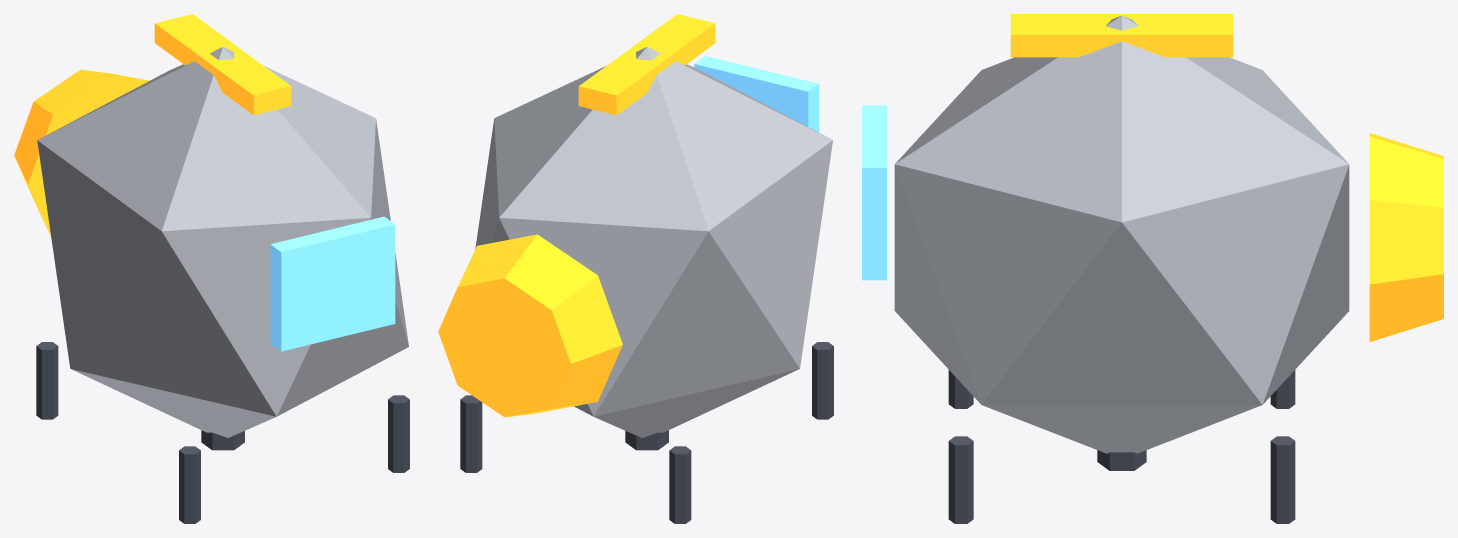
The model's file is stationpack-escape-pod.glb.
The picture shows the model from 3 angles, left to right: view 1: azimuth 30°, elevation 25°; view 2: azimuth 150°, elevation 25°; view 3: azimuth 270°, elevation 25°; orthographic projection. The views are drawn at different scales.
Visible parts, largest first — view 1: escape_pod; view 2: escape_pod; view 3: escape_pod.
Boxes of the visible parts, x1,y1,x2,y2 form: escape_pod: [14, 14, 409, 523]; escape_pod: [438, 14, 833, 523]; escape_pod: [862, 14, 1443, 523].
Size of the model in its own units: 1.61 by 1.99 by 2.35.
